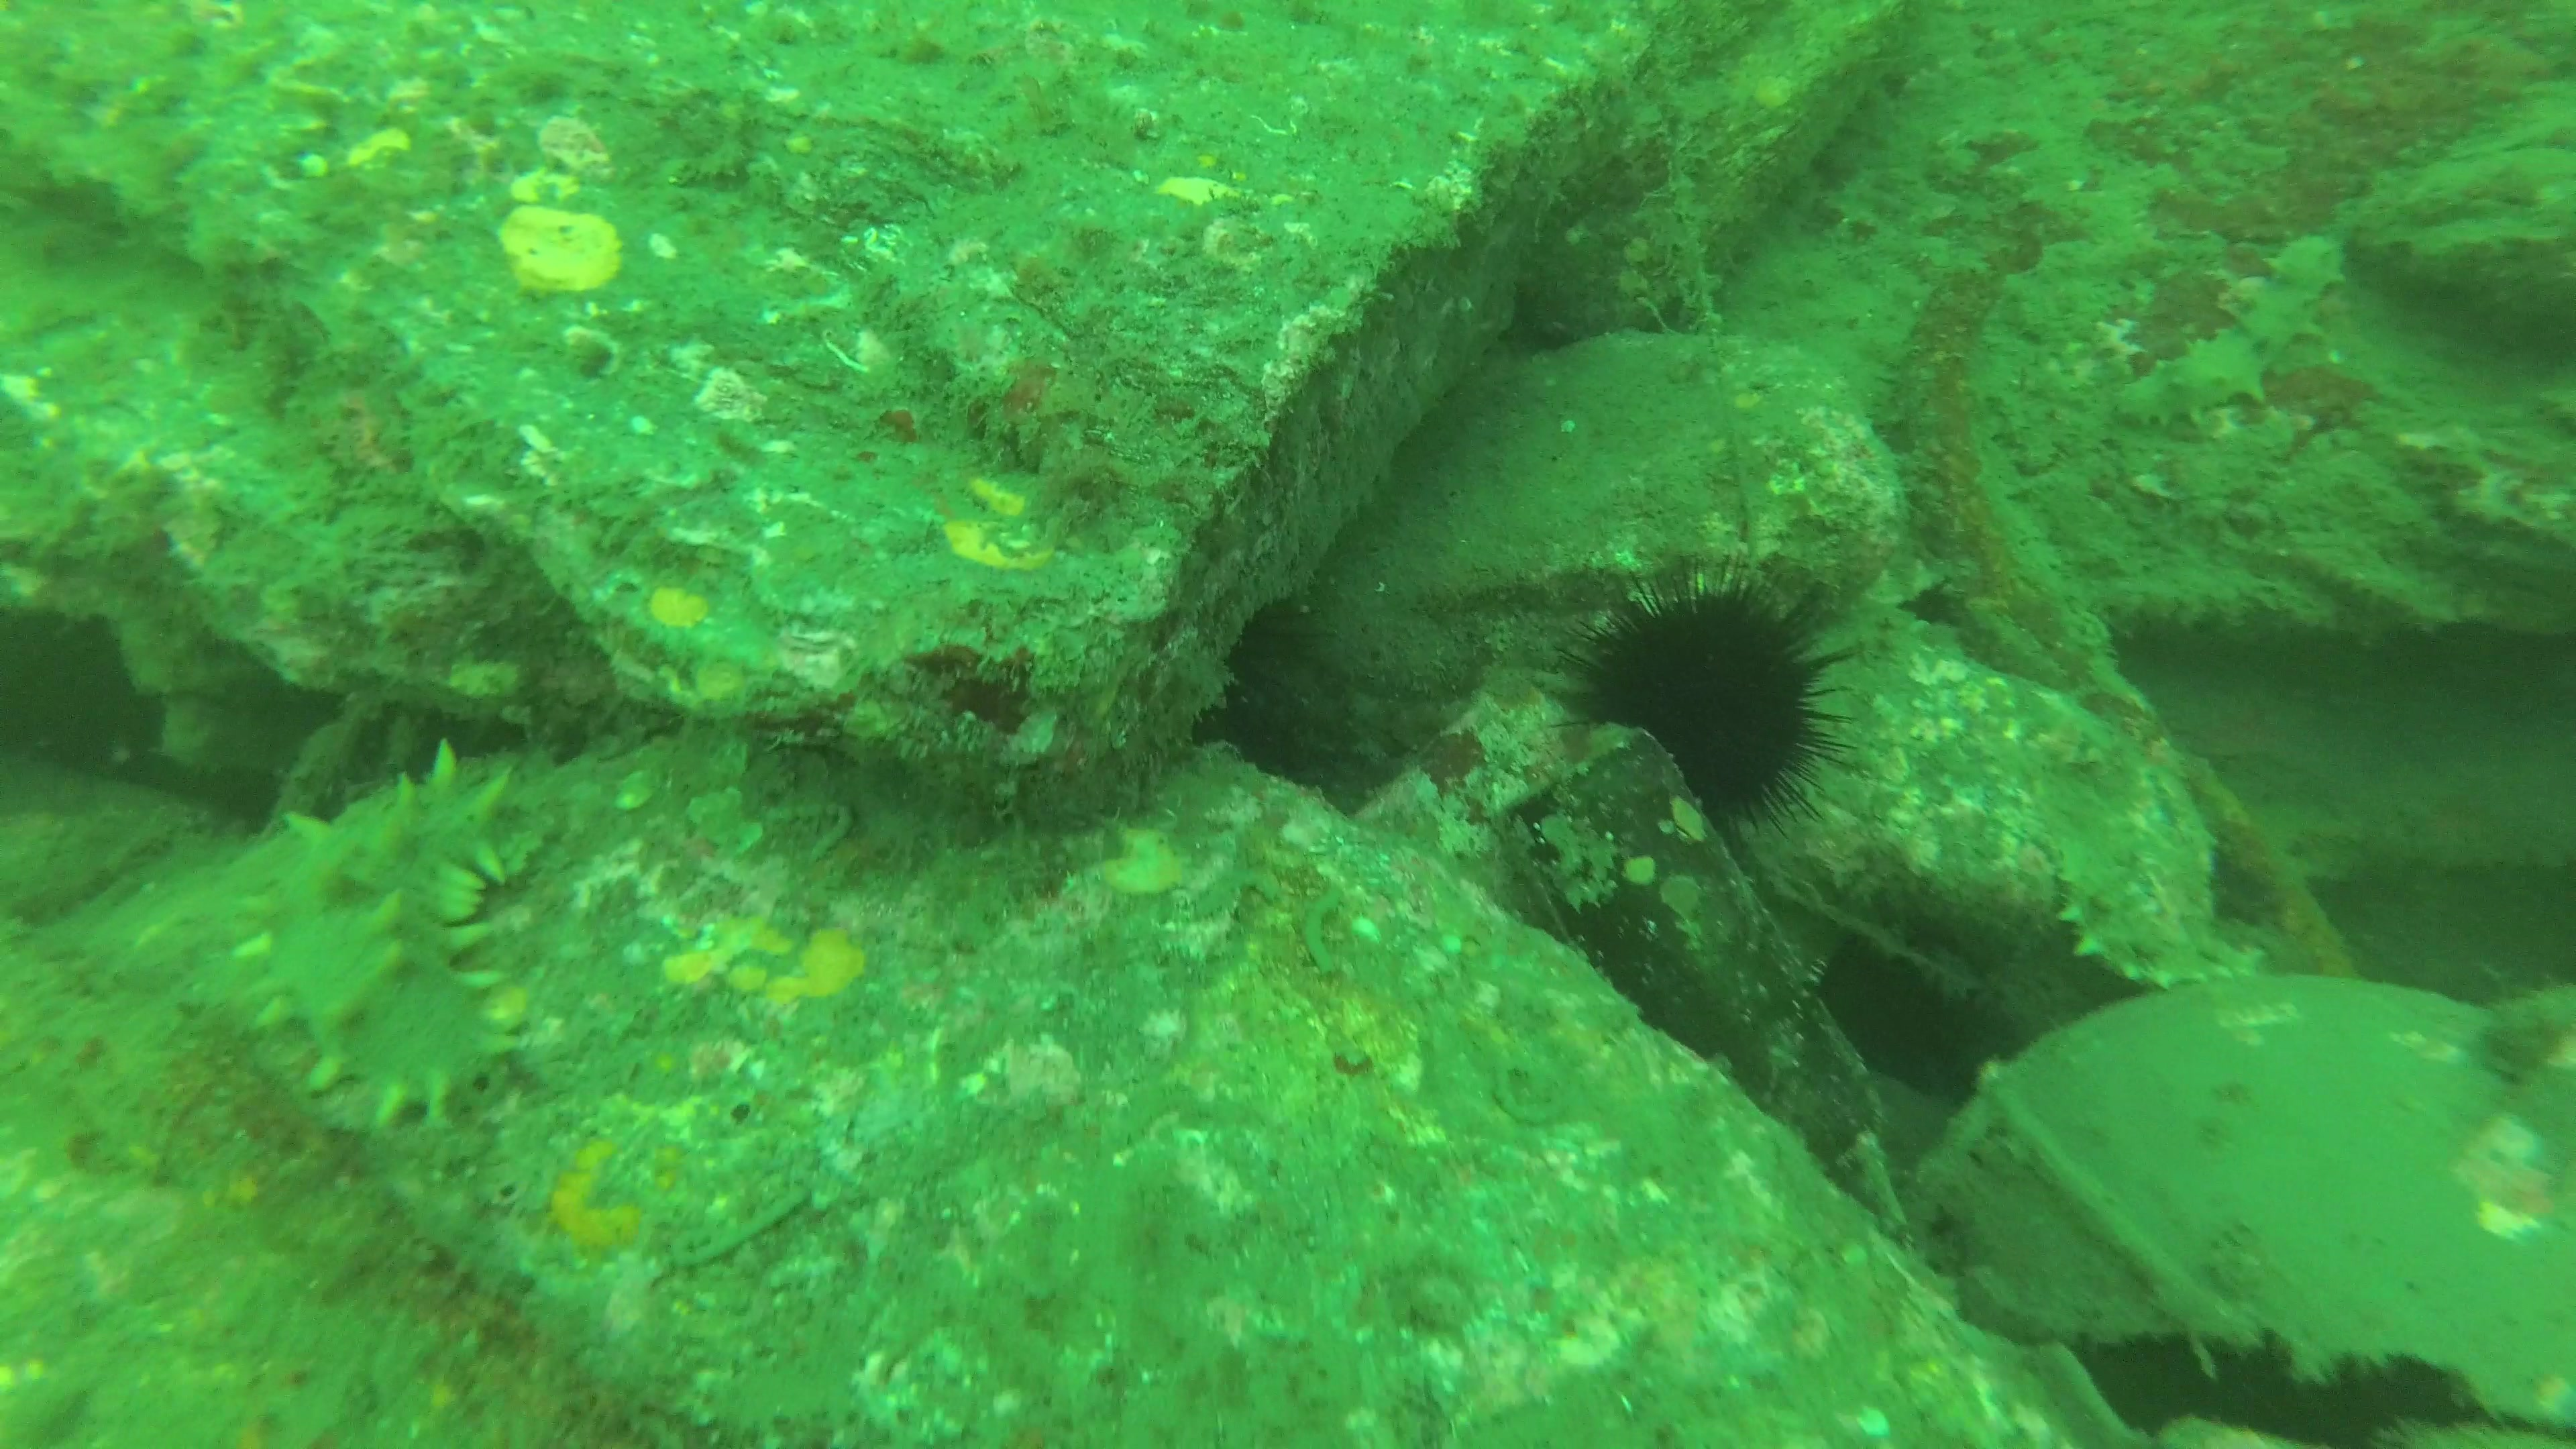echinus: (1555, 559, 1858, 847)
holothurian: (237, 741, 527, 1134), (2116, 235, 2350, 433), (2051, 842, 2226, 996)
